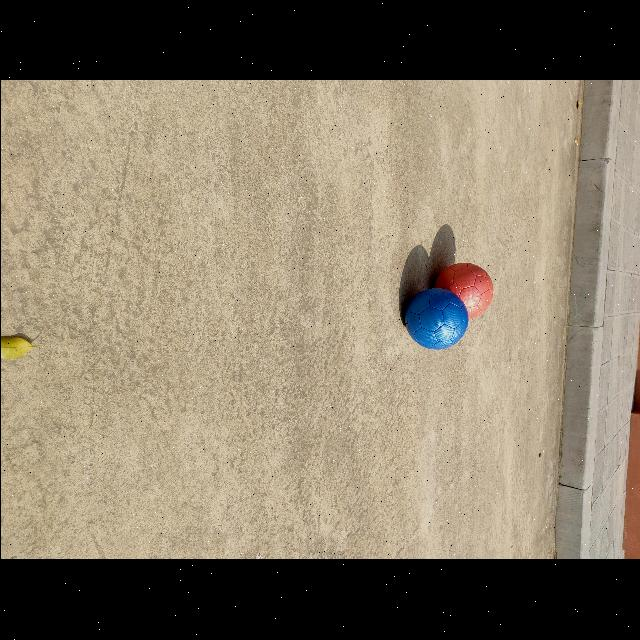B: (404, 288, 468, 351)
R: (435, 263, 493, 319)
